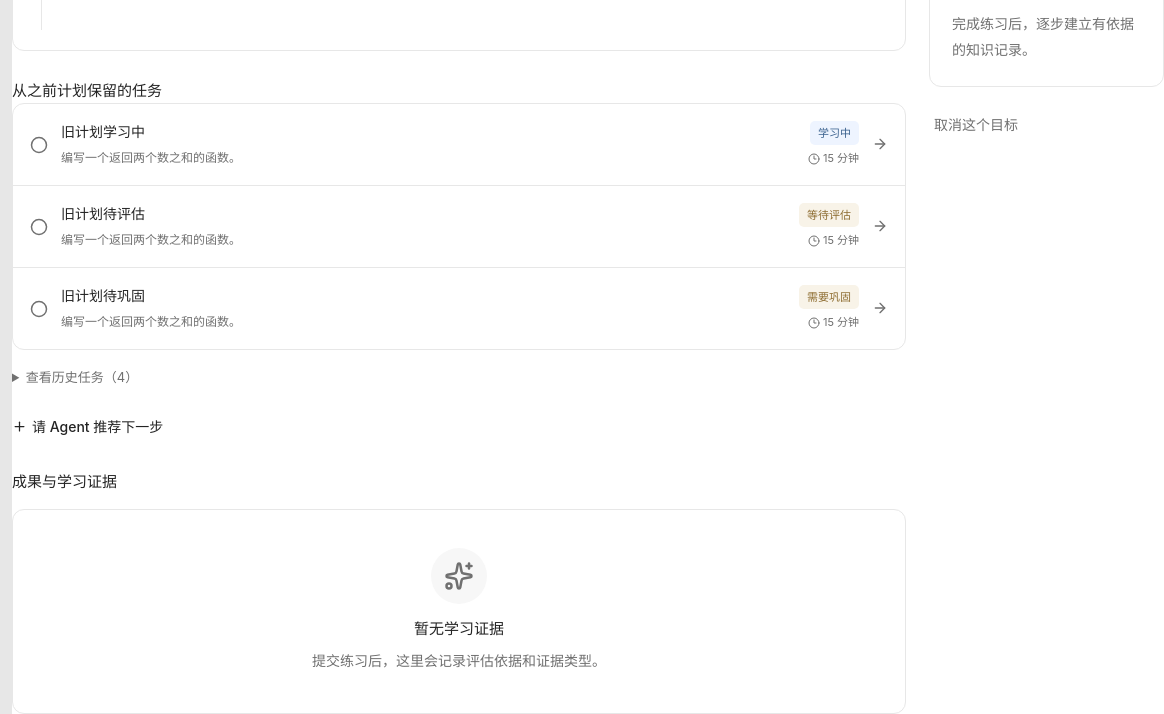
goal detail contract › keeps carried tasks and historical tasks outside current-plan progress
(page scrolled)
expect the link "旧计划学习中 编写一个返回两个数之和的函数。 学习中 15 分钟" is shown: met, box [13,104,905,186]
expect the link "旧计划待评估 编写一个返回两个数之和的函数。 等待评估 15 分钟" is shown: met, box [13,186,905,268]
Click the heading "查看历史任务（4）": point(82, 377) [26,369,138,385]
(page scrolled)
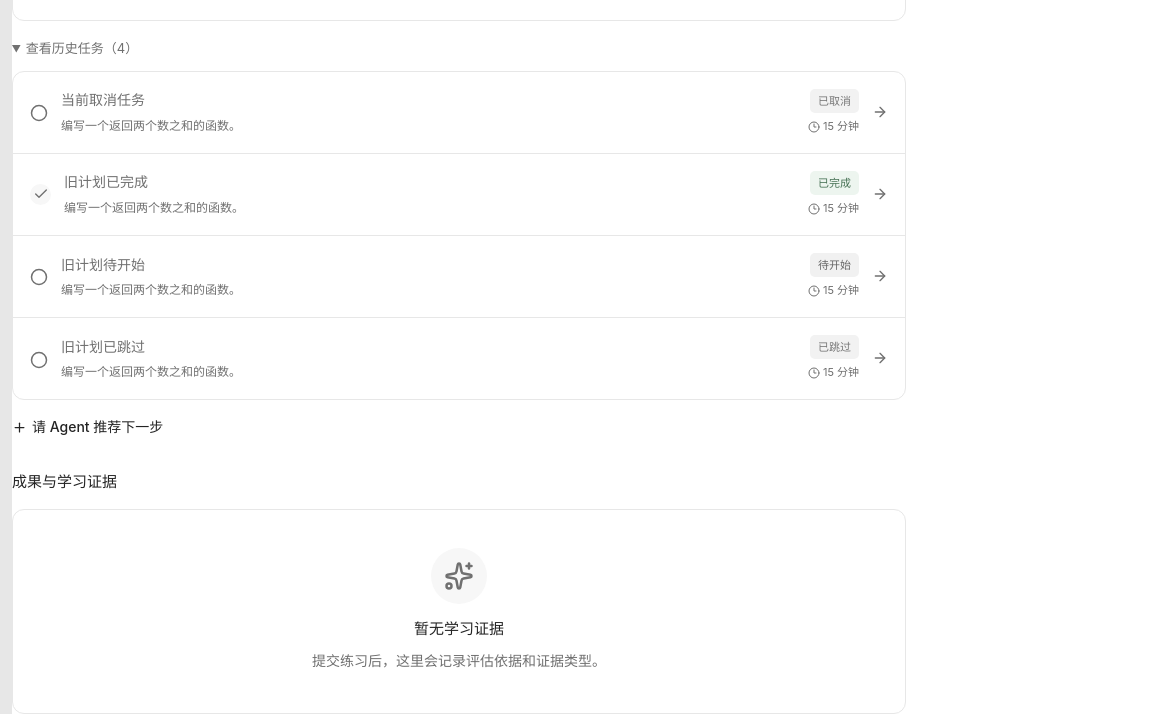
expect the link "当前取消任务 编写一个返回两个数之和的函数。 已取消 15 分钟" is shown: met, box [13,72,905,154]
expect the link "旧计划已完成 编写一个返回两个数之和的函数。 已完成 15 分钟" is shown: met, box [13,154,905,236]
expect the link "旧计划待开始 编写一个返回两个数之和的函数。 待开始 15 分钟" is shown: met, box [13,236,905,318]
